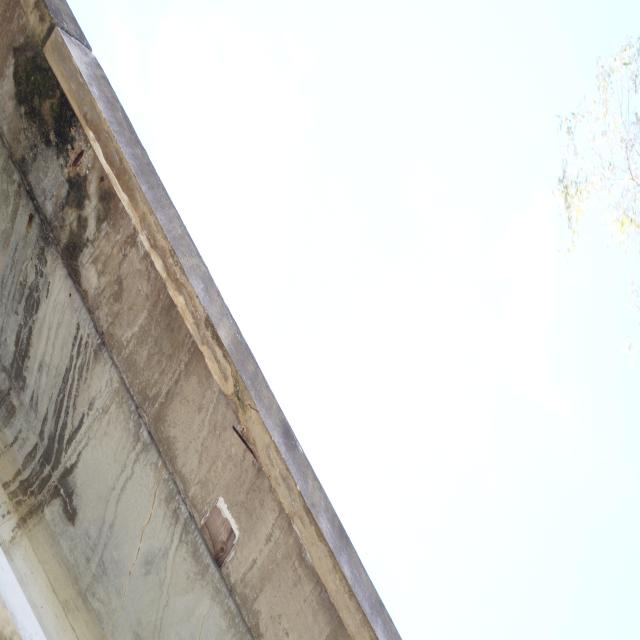Rebar: (60, 119, 92, 180)
concrete spalling: (198, 494, 240, 570)
horizontal crack: (232, 371, 258, 414)
